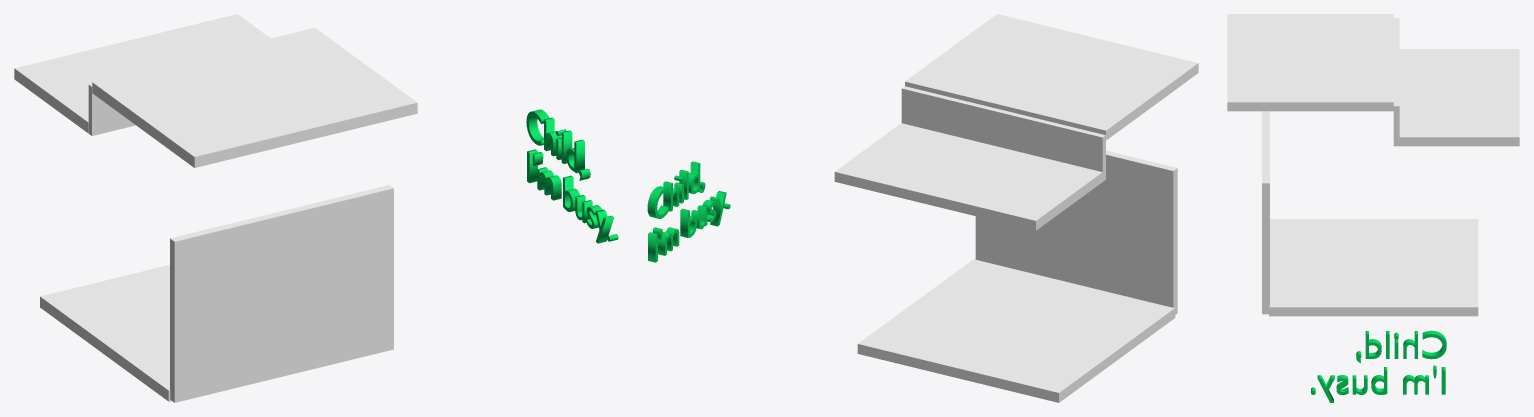
File: level4-rfaxF-oC.glb
The picture shows the model from 3 angles, left to right: view 1: azimuth 30°, elevation 25°; view 2: azimuth 150°, elevation 25°; view 3: azimuth 270°, elevation 25°; orthographic projection. The views are drawn at different scales.
Parts seen in each view (by area): view 1: Cube.002, Cube.001, Cube, Cube.003, Text_X, Cube.004; view 2: Cube, Cube.001, Cube.002, Cube.003, Cube.004, Text_X; view 3: Cube, Cube.001, Cube.003, Text_X, Cube.002, Cube.004.
Boxes of the visible parts, left/top/right/bottom form: Cube.002: left=170, top=185, right=393, bottom=402; Cube.001: left=92, top=28, right=417, bottom=167; Cube: left=40, top=265, right=171, bottom=401; Cube.003: left=14, top=14, right=270, bottom=133; Text_X: left=526, top=109, right=618, bottom=243; Cube.004: left=88, top=83, right=135, bottom=135; Cube: left=857, top=259, right=1175, bottom=402; Cube.001: left=905, top=14, right=1198, bottom=140; Cube.002: left=975, top=150, right=1177, bottom=314; Cube.003: left=834, top=123, right=1102, bottom=230; Cube.004: left=901, top=86, right=1105, bottom=181; Text_X: left=647, top=161, right=730, bottom=262; Cube: left=1269, top=219, right=1478, bottom=316; Cube.001: left=1227, top=14, right=1393, bottom=111; Cube.003: left=1399, top=49, right=1519, bottom=146; Text_X: left=1311, top=330, right=1446, bottom=402; Cube.002: left=1262, top=111, right=1269, bottom=314; Cube.004: left=1393, top=18, right=1399, bottom=146.
Size of the model in its own units: 45.07 by 23.87 by 29.56.
